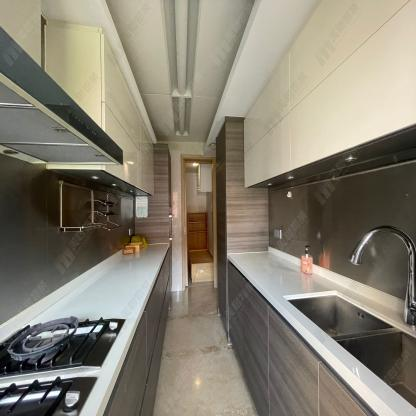Cupboard: (242, 0, 416, 190)
Exhaust Hood: (0, 26, 124, 167)
Faucet: (349, 220, 416, 327)
Sink: (269, 282, 416, 416)
Stove: (0, 312, 140, 416)
